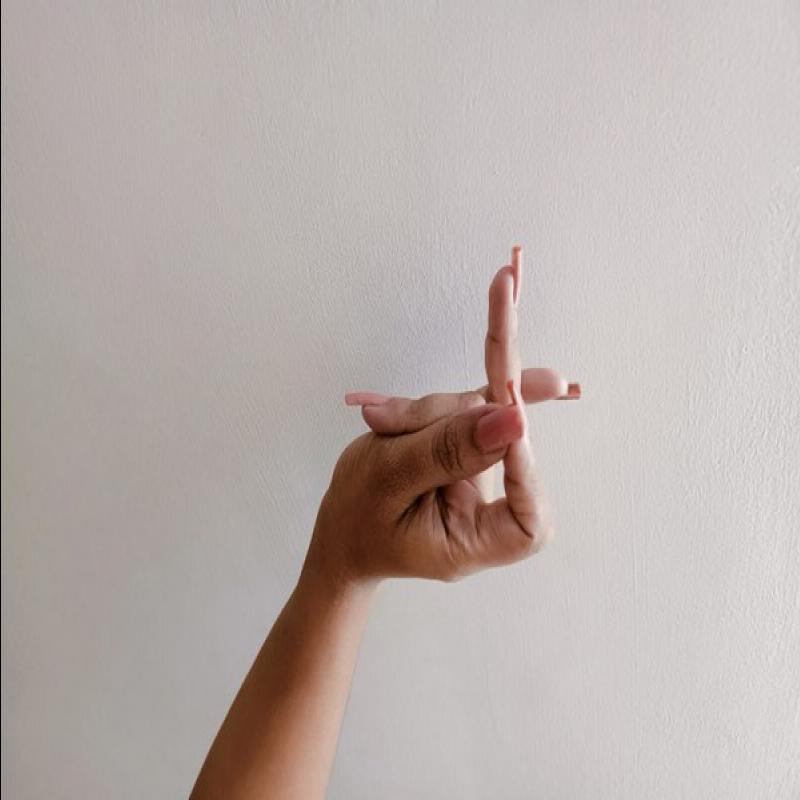Katakam: (305, 220, 604, 631)
